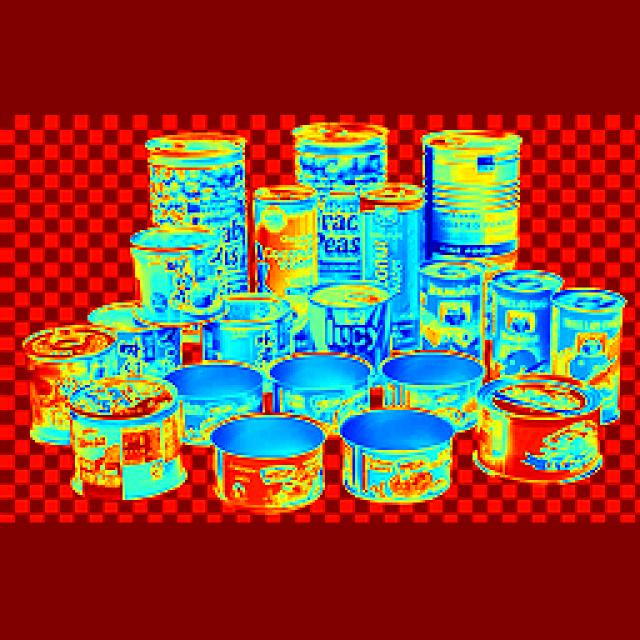Aluminium Food Cans: (28, 116, 508, 478)
